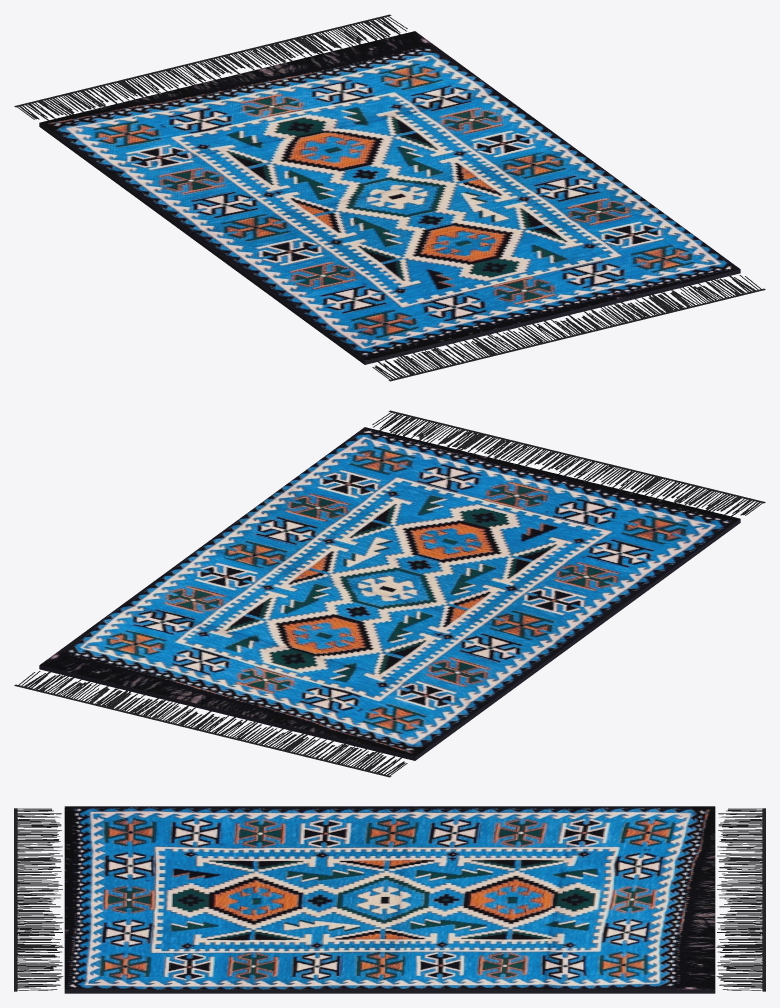
The model's file is kilim_sky_60x90_v4.glb.
3 views of the same model, one above another, from view 1: azimuth 30°, elevation 25°; view 2: azimuth 150°, elevation 25°; view 3: azimuth 270°, elevation 25° (orthographic).
Visible parts, largest first — view 1: rug, fringeB, fringeA, side; view 2: rug, fringeA, fringeB, side; view 3: rug, fringeA, fringeB, side.
Part boxes in pixels (box(x1,y1,x2,y2)): rug: box(39, 31, 739, 360); fringeB: box(372, 275, 765, 381); fringeA: box(14, 14, 407, 120); side: box(39, 123, 740, 364); rug: box(40, 427, 740, 756); fringeA: box(14, 671, 407, 777); fringeB: box(372, 410, 765, 516); side: box(39, 519, 740, 760); rug: box(64, 806, 715, 989); fringeA: box(716, 808, 765, 991); fringeB: box(14, 808, 63, 991); side: box(64, 989, 715, 993).
Size of what is drawn, in the model's own units: 0.6 by 0.00614 by 1.04.
Materials: 2 (2 with a texture image).
